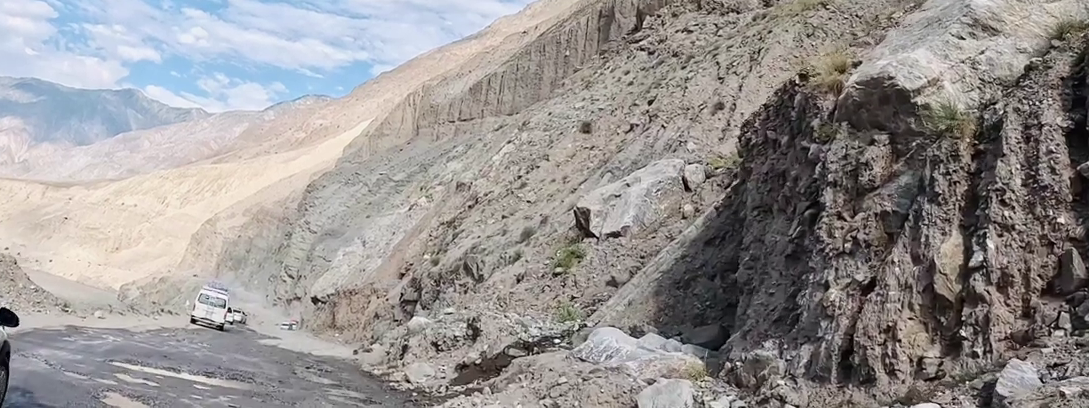unexpected: (212, 241, 717, 403)
